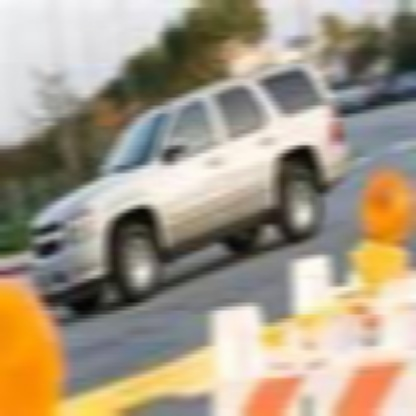Vehicle: (32, 63, 348, 322)
